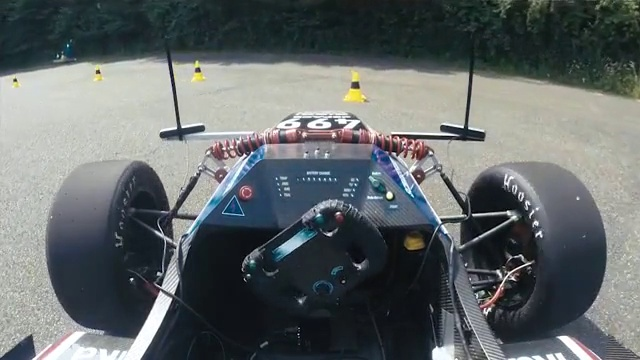Cone: (342, 70, 368, 102), (191, 60, 207, 82)
